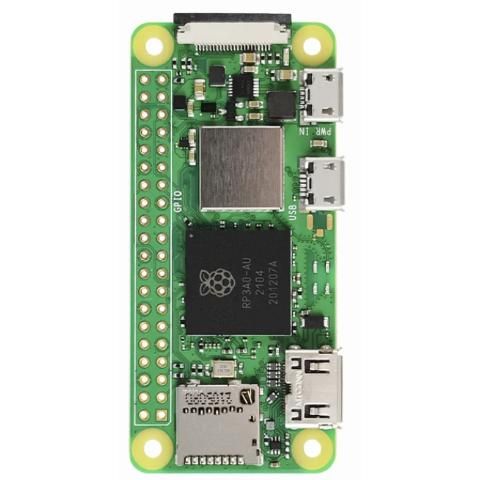Raspberry-Pi-Zero-2-W: (130, 11, 348, 472)
